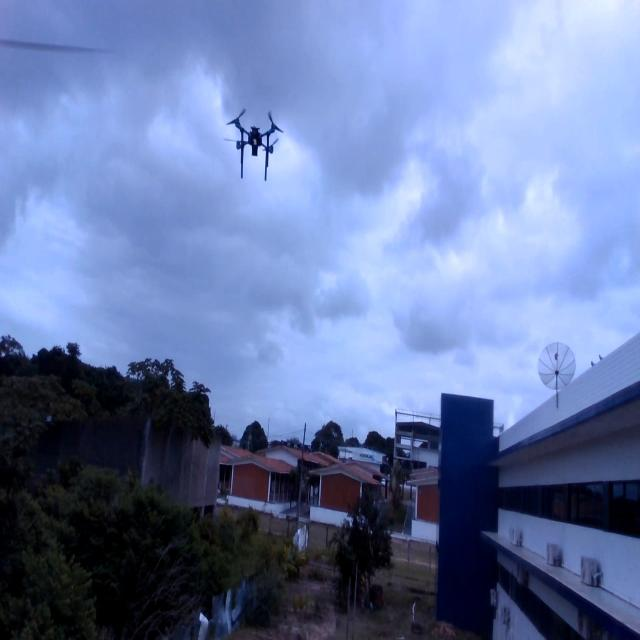-uav-: (218, 104, 287, 197)
